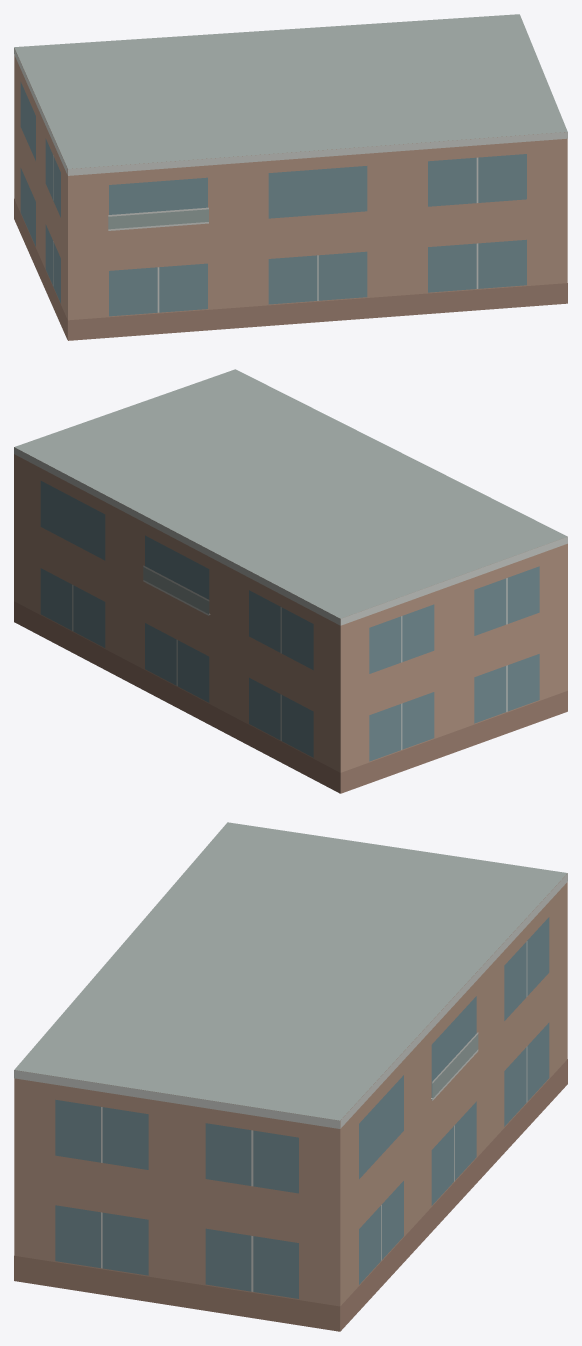
Rendered from survey-upis-32899686.glb.
3 views of the same model, one above another, from view 1: azimuth 30°, elevation 25°; view 2: azimuth 150°, elevation 25°; view 3: azimuth 270°, elevation 25° (orthographic). The views are drawn at different scales.
Parts seen in each view (by area): view 1: survey-upis-32899686.tmp; view 2: survey-upis-32899686.tmp; view 3: survey-upis-32899686.tmp.
Part boxes in pixels (left/top/right/bottom): survey-upis-32899686.tmp: left=14, top=14, right=567, bottom=340; survey-upis-32899686.tmp: left=14, top=369, right=567, bottom=793; survey-upis-32899686.tmp: left=14, top=822, right=567, bottom=1331.
Size of the model in its own units: 18.51 by 6.1 by 14.51.
